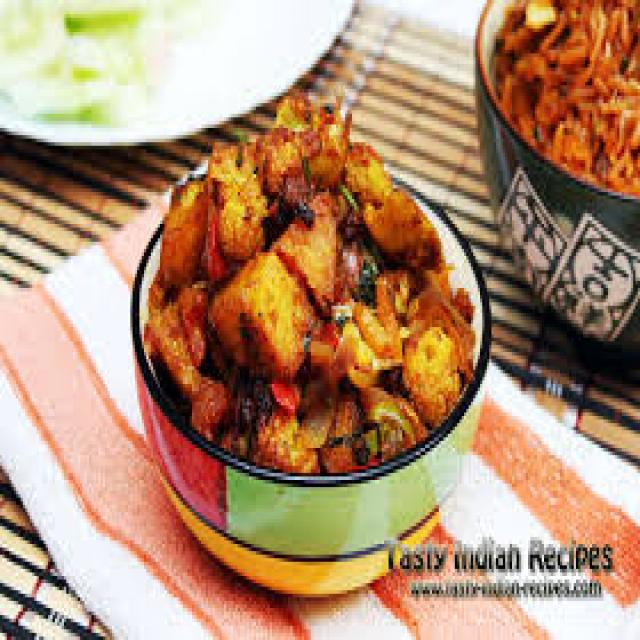Aloo Gobi: (160, 112, 462, 477)
